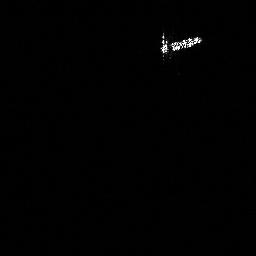ship: (156, 30, 205, 57)
